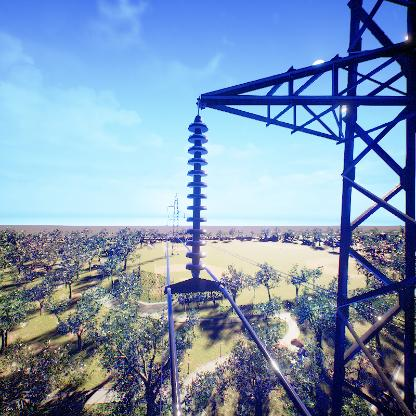insulator: (184, 121, 210, 273)
